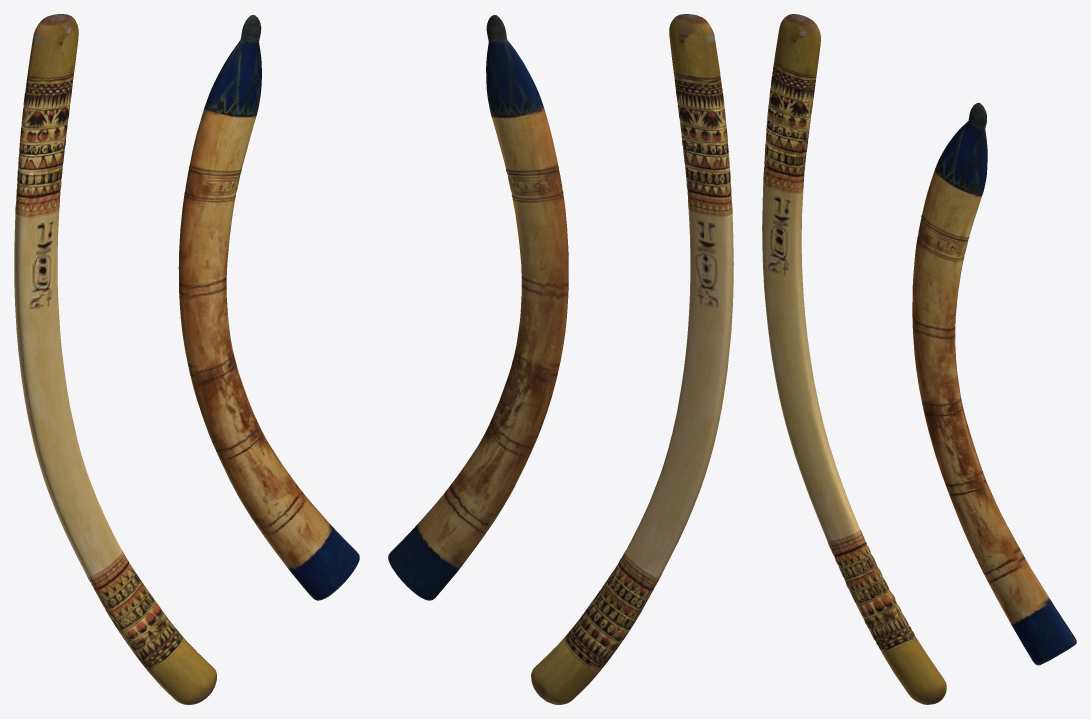
File: throwing-sticks-ai.glb
3 views of the same model, side by side, from view 1: azimuth 30°, elevation 25°; view 2: azimuth 150°, elevation 25°; view 3: azimuth 330°, elevation 25° (orthographic). The views are drawn at different scales.
Size of the model in its own units: 0.9466 by 1.9 by 0.0637.
Materials: 1 (1 with a texture image).
